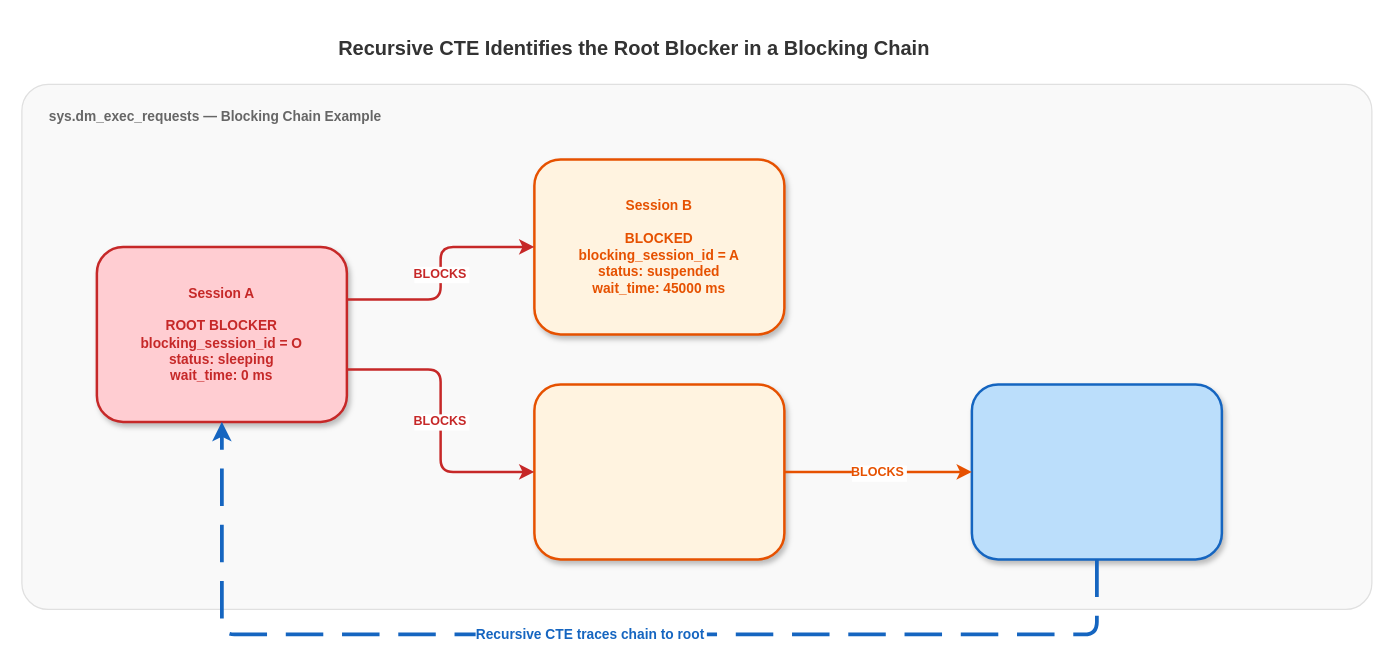
Some shapes in this 1394 by 668 pixel diagram are drawn without their labels. The centre of each missing label's shape, as x and y in pixels:
Session C BLOCKED blocking_session_id = A status: suspended wait_time: 32000 ms: (x=660, y=473)
Session D BLOCKED blocking_session_id = C status: suspended wait_time: 28000 ms: (x=1097, y=473)
